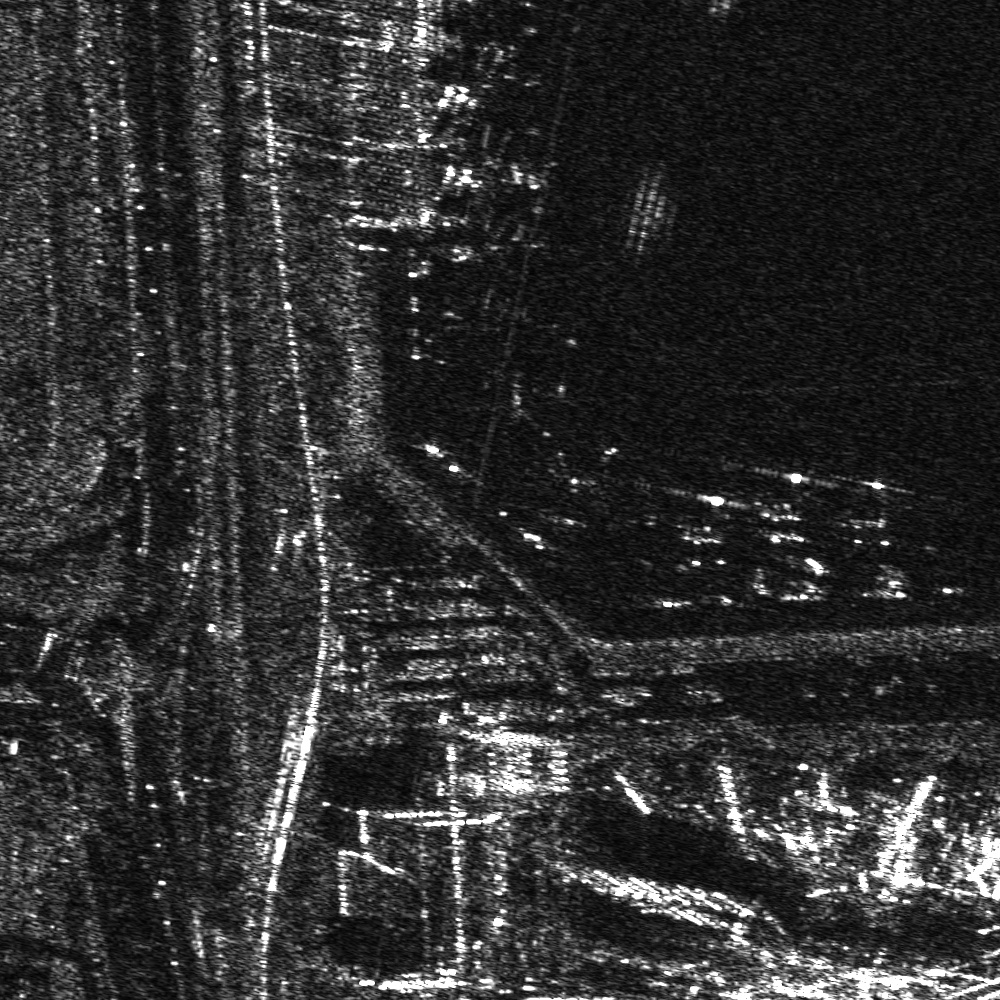A220: (737, 464, 813, 554)
Boeing737: (650, 483, 732, 557)
other: (830, 475, 901, 552)
